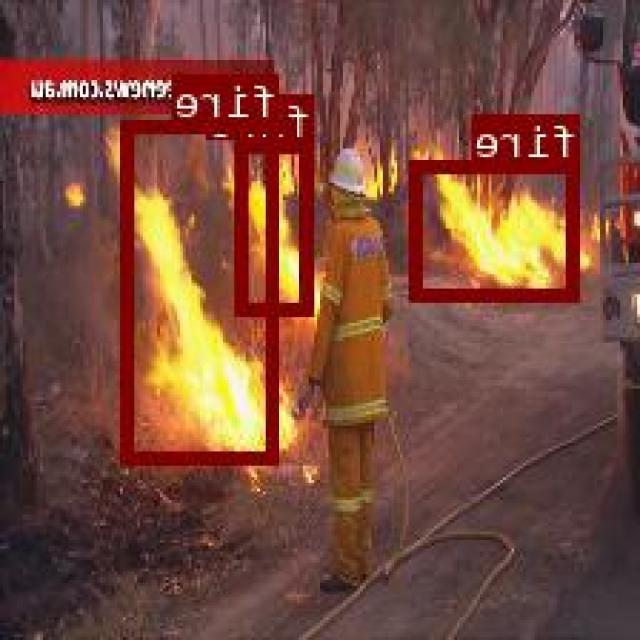fire: (126, 120, 280, 462), (413, 159, 582, 298), (240, 140, 316, 312)
